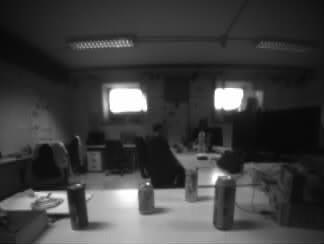Tin can: (214, 176, 234, 230), (69, 183, 88, 229), (137, 183, 155, 215), (185, 168, 199, 202)
